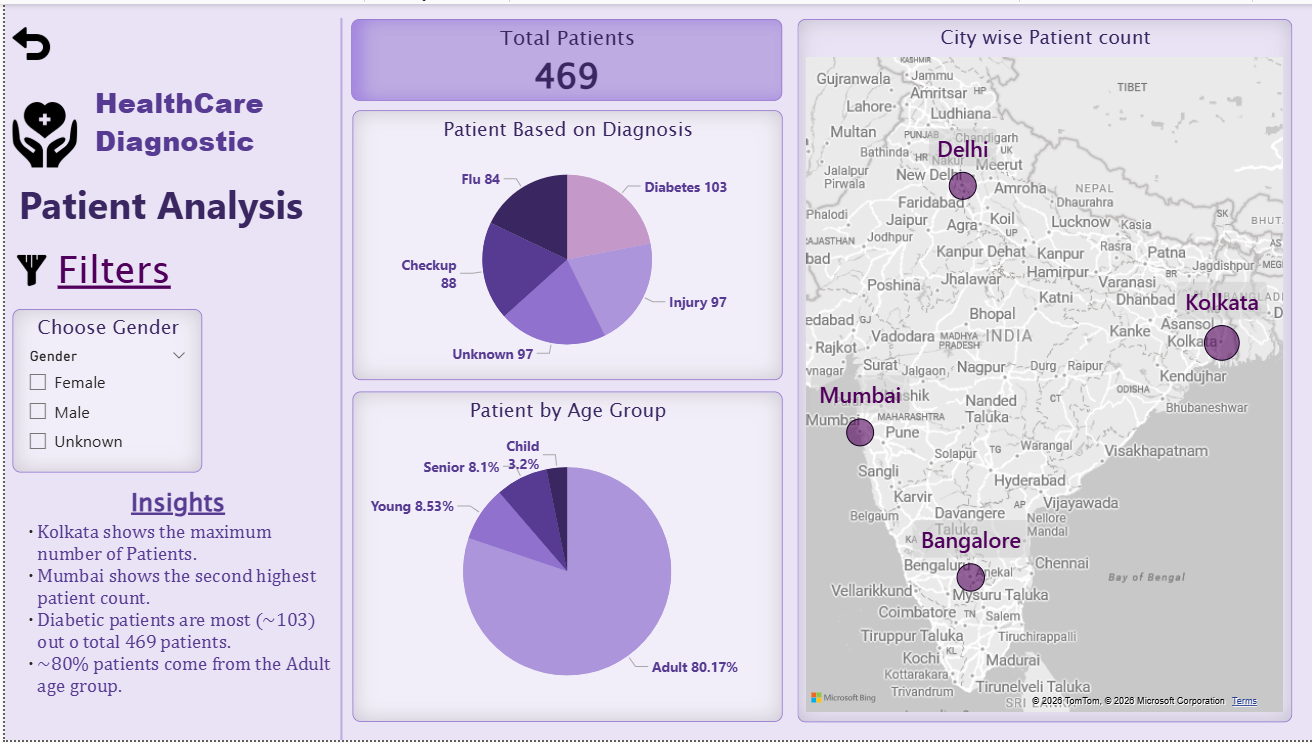

What the dashboard file says about the page in this screenshot:
{"tool":"powerbi","page":{"name":"Patient Analysis","canvas":[1280,720],"ordinal":1},"visuals":[{"type":"card","title":"Total Patients","fields":{"Values":["CountNonNull(Cleaned_HealthCare_Data.Patient_ID)"]},"box":[338.3,14.9,421.7,79.6],"z":0},{"type":"textbox","box":[83.2,72.1,247,92.9],"z":7000},{"type":"image","box":[7.3,80.7,63.6,94.2],"z":8000},{"type":"slicer","title":"Choose Gender","fields":{"Values":["Cleaned_HealthCare_Data.Gender"]},"box":[7.3,298.4,185.9,160.2],"z":10000},{"type":"image","box":[7.3,227.4,37.9,66],"z":13000},{"type":"textbox","box":[46.5,227.4,146.7,70.9],"z":14000},{"type":"map","title":"City wise Patient count","fields":{"Category":["Cleaned_HealthCare_Data.City"],"Size":["CountNonNull(Cleaned_HealthCare_Data.Patient_ID)"]},"box":[775,14.9,483.9,687.9],"z":14001},{"type":"pieChart","title":"Patient Based on Diagnosis","fields":{"Category":["Cleaned_HealthCare_Data.Diagnosis"],"Y":["CountNonNull(Cleaned_HealthCare_Data.Patient_ID)"]},"box":[339.6,104.5,420.4,263.7],"z":14002},{"type":"pieChart","title":"Patient by Age Group","fields":{"Category":["Cleaned_HealthCare_Data.Age_Group"],"Y":["CountNonNull(Cleaned_HealthCare_Data.Patient_ID)"]},"box":[339.6,379.4,420.4,323.4],"z":14003},{"type":"textbox","box":[8.6,165.1,322.8,62.4],"z":14004},{"type":"textbox","box":[9.1,464.8,321.4,238.4],"z":14005},{"type":"image","box":[7.3,14.7,36.7,47.7],"z":14006},{"type":"shape","box":[223.6,13,210.6,707],"z":14007}]}

Visuals, with their boxes in screenshot pixels (x1, y1, x2, y2), scaled from the page's 1280x720 canvas onto the 1312x743 screenshot:
"Total Patients" card: crop(347, 15, 779, 98)
textbox: crop(85, 74, 338, 170)
image: crop(7, 83, 73, 180)
"Choose Gender" slicer: crop(7, 308, 198, 473)
image: crop(7, 235, 46, 303)
textbox: crop(48, 235, 198, 308)
"City wise Patient count" map: crop(794, 15, 1290, 725)
"Patient Based on Diagnosis" pieChart: crop(348, 108, 779, 380)
"Patient by Age Group" pieChart: crop(348, 392, 779, 725)
textbox: crop(9, 170, 340, 235)
textbox: crop(9, 480, 339, 726)
image: crop(7, 15, 45, 64)
shape: crop(229, 13, 445, 742)
